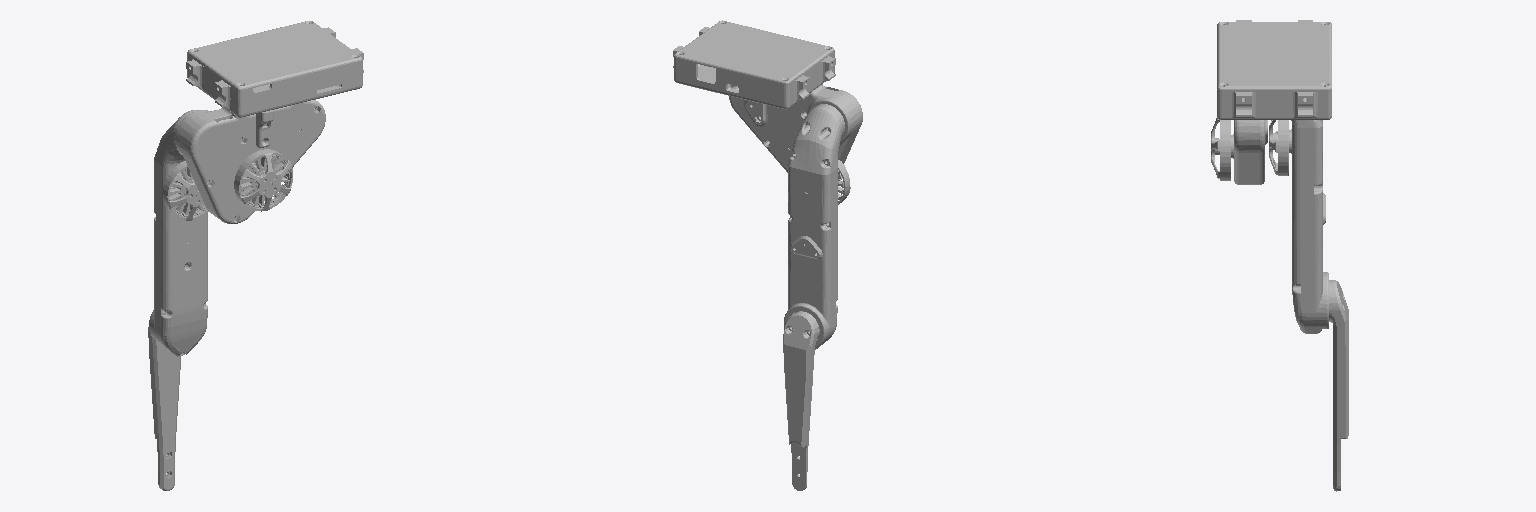
URDF robot description (hidro_arm_2dof):
<?xml version="1.0" encoding="utf-8"?>
<!-- This URDF was automatically created by SolidWorks to URDF Exporter! Originally created by [author] ([email redacted])
     Commit Version: 1.6.0-1-g15f4949  Build Version: 1.6.7594.29634
     For more information, please see http://wiki.ros.org/sw_urdf_exporter -->
<robot
  name="hidro_arm_2dof">
  <link
    name="base_link">
    <inertial>
      <origin
        xyz="-0.015484 -0.0099673 -0.039447"
        rpy="0 0 0" />
      <mass
        value="0.1603" />
      <inertia
        ixx="7.1642E-05"
        ixy="5.1444E-07"
        ixz="-5.3098E-06"
        iyy="0.0001433"
        iyz="-5.6096E-07"
        izz="0.00015608" />
    </inertial>
    <visual>
      <origin
        xyz="0 0 0"
        rpy="0 0 0" />
      <geometry>
        <mesh
          filename="package://hidro_arm_2dof_urdf/meshes/base_link.STL" />
      </geometry>
      <material
        name="">
        <color
          rgba="0.75294 0.75294 0.75294 1" />
      </material>
    </visual>
    <collision>
      <origin
        xyz="0 0 0"
        rpy="0 0 0" />
      <geometry>
        <mesh
          filename="package://hidro_arm_2dof_urdf/meshes/base_link.STL" />
      </geometry>
    </collision>
  </link>
  <link
    name="link1">
    <inertial>
      <origin
        xyz="2.4506E-05 -0.080142 -0.018964"
        rpy="0 0 0" />
      <mass
        value="0.094157" />
      <inertia
        ixx="0.00015435"
        ixy="-7.262E-08"
        ixz="-5.794E-09"
        iyy="1.4679E-05"
        iyz="-1.0071E-05"
        izz="0.00015963" />
    </inertial>
    <visual>
      <origin
        xyz="0 0 0"
        rpy="0 0 0" />
      <geometry>
        <mesh
          filename="package://hidro_arm_2dof_urdf/meshes/link1.STL" />
      </geometry>
      <material
        name="">
        <color
          rgba="0.75294 0.75294 0.75294 1" />
      </material>
    </visual>
    <collision>
      <origin
        xyz="0 0 0"
        rpy="0 0 0" />
      <geometry>
        <mesh
          filename="package://hidro_arm_2dof_urdf/meshes/link1.STL" />
      </geometry>
    </collision>
  </link>
  <joint
    name="joint1"
    type="revolute">
    <origin
      xyz="-0.064701 -0.001955 -0.04685"
      rpy="1.5708 0 0" />
    <parent
      link="base_link" />
    <child
      link="link1" />
    <axis
      xyz="0 0 -1" />
    <limit
      lower="0"
      upper="0"
      effort="0"
      velocity="0" />
  </joint>
  <link
    name="link2">
    <inertial>
      <origin
        xyz="-3.1859E-08 -0.039593 -0.0062602"
        rpy="0 0 0" />
      <mass
        value="0.027685" />
      <inertia
        ixx="3.3553E-05"
        ixy="3.1357E-11"
        ixz="9.2484E-13"
        iyy="1.2727E-06"
        iyz="-8.4475E-07"
        izz="3.4062E-05" />
    </inertial>
    <visual>
      <origin
        xyz="0 0 0"
        rpy="0 0 0" />
      <geometry>
        <mesh
          filename="package://hidro_arm_2dof_urdf/meshes/link2.STL" />
      </geometry>
      <material
        name="">
        <color
          rgba="0.75294 0.75294 0.75294 1" />
      </material>
    </visual>
    <collision>
      <origin
        xyz="0 0 0"
        rpy="0 0 0" />
      <geometry>
        <mesh
          filename="package://hidro_arm_2dof_urdf/meshes/link2.STL" />
      </geometry>
    </collision>
  </link>
  <joint
    name="joint2"
    type="revolute">
    <origin
      xyz="0 -0.16 -0.03715"
      rpy="0 0 0" />
    <parent
      link="link1" />
    <child
      link="link2" />
    <axis
      xyz="0 0 1" />
    <limit
      lower="0"
      upper="0"
      effort="0"
      velocity="0" />
  </joint>
</robot>

--- Render facts (derived) ---
The picture shows the robot from 3 angles, left to right: view 1: azimuth 30°, elevation 25°; view 2: azimuth 150°, elevation 25°; view 3: azimuth 270°, elevation 25°; orthographic projection.
Model hidro_arm_2dof with 3 links and 2 joints (2 revolute), rooted at base_link, posed all joints at 0.
Links seen in each view (by area): view 1: base_link, link1, link2; view 2: base_link, link1, link2; view 3: base_link, link1, link2.
Link boxes in pixels (x1,y1,x2,y2): base_link: (175,21,363,223); link1: (149,110,208,356); link2: (148,316,180,490); base_link: (673,20,862,174); link1: (784,104,850,349); link2: (783,311,819,490); base_link: (1211,20,1331,184); link1: (1269,120,1328,333); link2: (1329,280,1348,491).
Size in the robot's own frame: 0.145 by 0.0894 by 0.3428 metres.
Meshes: 3 distinct files referenced, 3 mesh visuals loaded (3 binary STL).